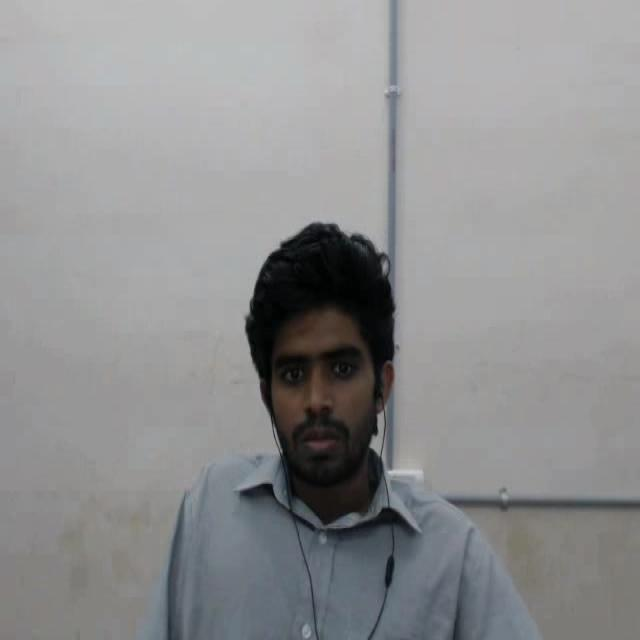Engaged: (223, 217, 432, 517)
